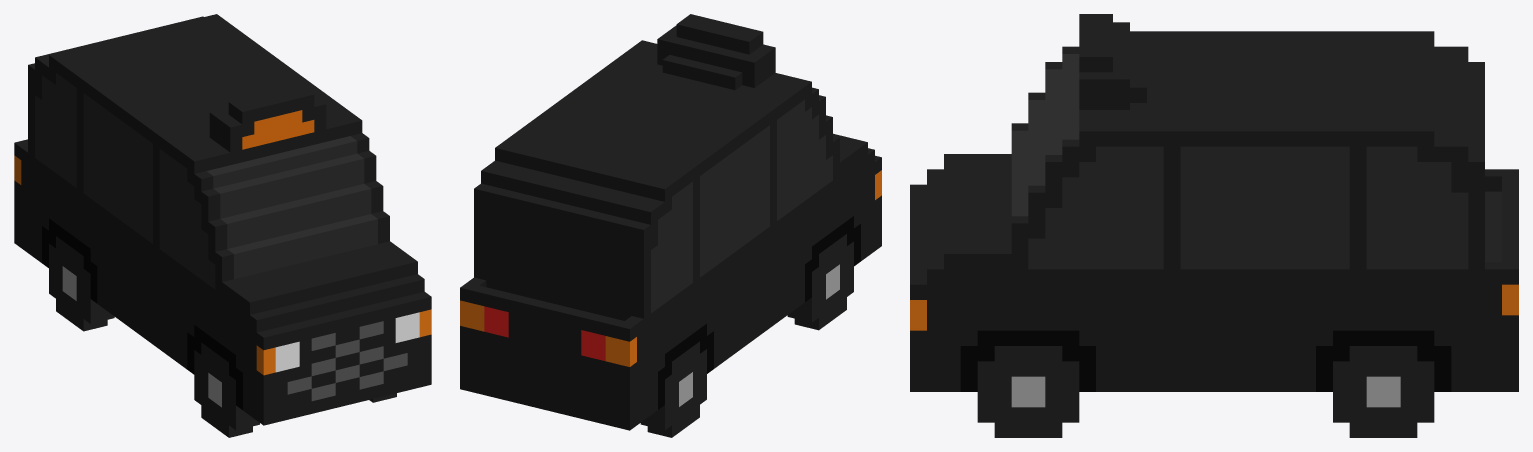
File: kit-voxel-taxi-london.glb
3 views of the same model, side by side, from view 1: azimuth 30°, elevation 25°; view 2: azimuth 150°, elevation 25°; view 3: azimuth 270°, elevation 25° (orthographic). The views are drawn at different scales.
Visible parts, largest first — view 1: geometry_1; view 2: geometry_1; view 3: geometry_1.
Boxes of the visible parts, x1,y1,x2,y2 form: geometry_1: (14,14,431,437); geometry_1: (460,14,881,437); geometry_1: (910,14,1518,437).
Bounding box in the file's own units: 1.4 × 2.3 × 3.6.
1 material, 1 textured.
